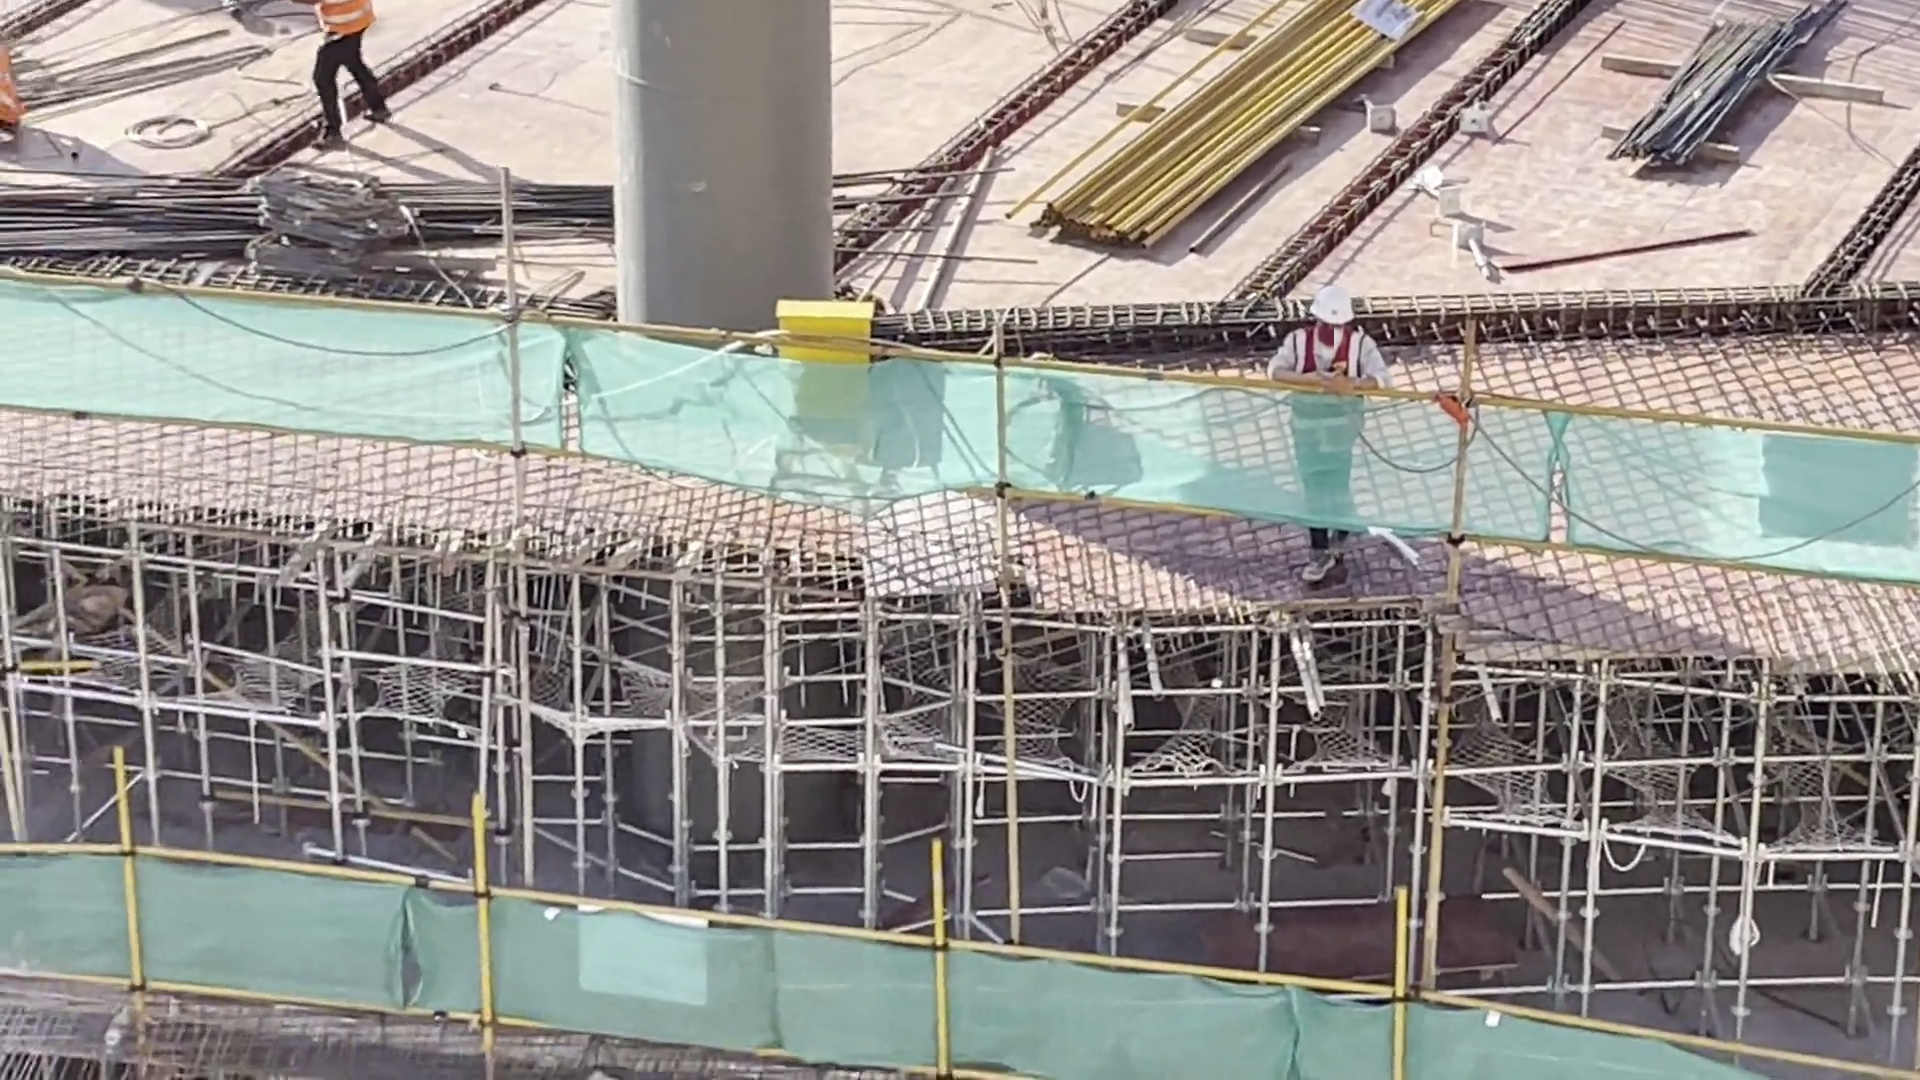helmet: (1308, 286, 1356, 334)
person: (1275, 275, 1378, 585), (297, 1, 402, 131)
vest: (1293, 327, 1363, 455), (311, 1, 376, 57)
